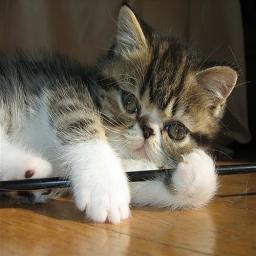catnose: (139, 124, 155, 140)
